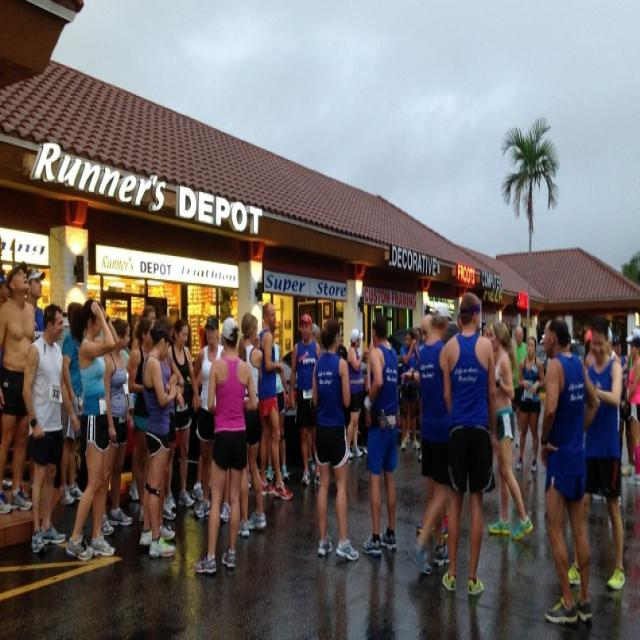body: (537, 315, 601, 626), (314, 544, 510, 640), (560, 315, 627, 593), (438, 290, 497, 596), (192, 315, 258, 578), (20, 301, 82, 557), (64, 297, 122, 563), (309, 314, 360, 563), (484, 320, 534, 543), (138, 314, 181, 560), (360, 312, 400, 558), (0, 258, 37, 516), (93, 315, 135, 537), (191, 315, 232, 523), (254, 299, 294, 502), (150, 312, 187, 522), (15, 265, 46, 507), (164, 316, 200, 513), (238, 312, 267, 538), (127, 317, 156, 525), (289, 312, 321, 488), (58, 299, 85, 507), (514, 336, 546, 474), (342, 325, 372, 461), (266, 328, 291, 484), (606, 325, 630, 467), (398, 328, 422, 453), (509, 324, 529, 448), (624, 335, 640, 485), (360, 339, 373, 460), (414, 510, 451, 542), (412, 311, 432, 346), (191, 450, 204, 500), (137, 302, 156, 332), (419, 311, 434, 343), (583, 327, 591, 368), (0, 268, 9, 304), (309, 321, 321, 346), (336, 342, 349, 364), (482, 320, 493, 340), (566, 334, 571, 352)
